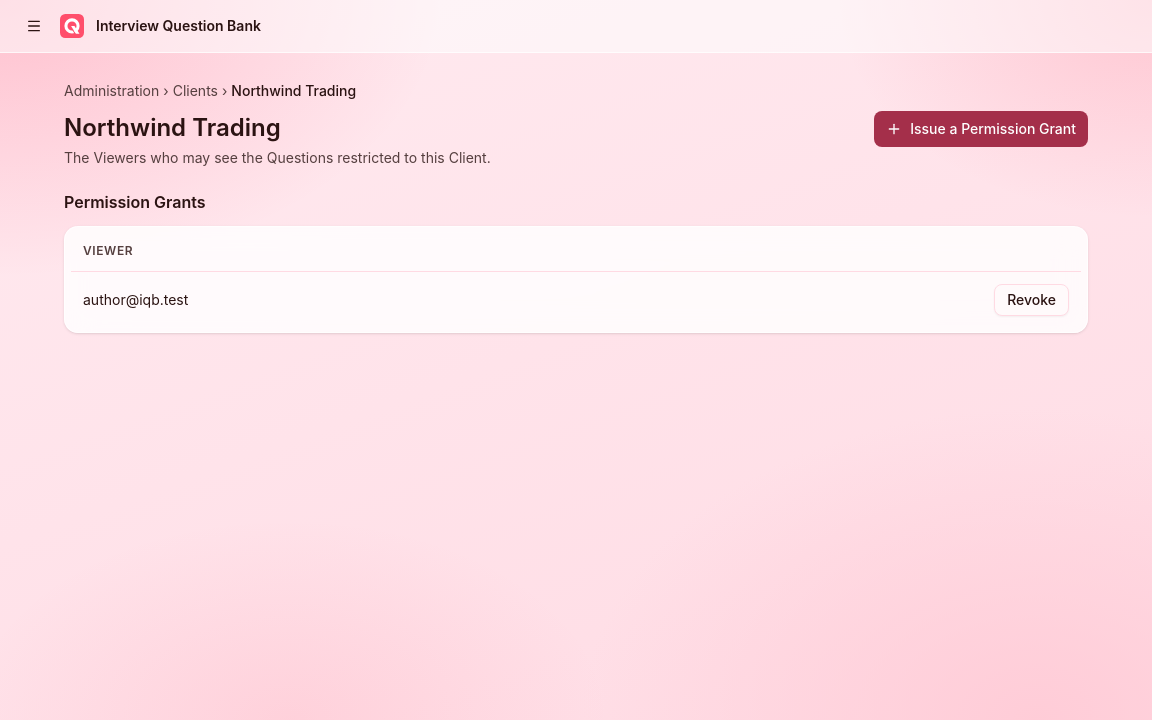
Scenario: the Clients on the administration console › reports the Viewer list failing in the dialog where a Grant would be issued
Check: the text "author@iqb.test" is shown, box [71,272,644,328]
Click the button "Issue a Permission Grant".
click(981, 129)  # box [874,111,1088,147]
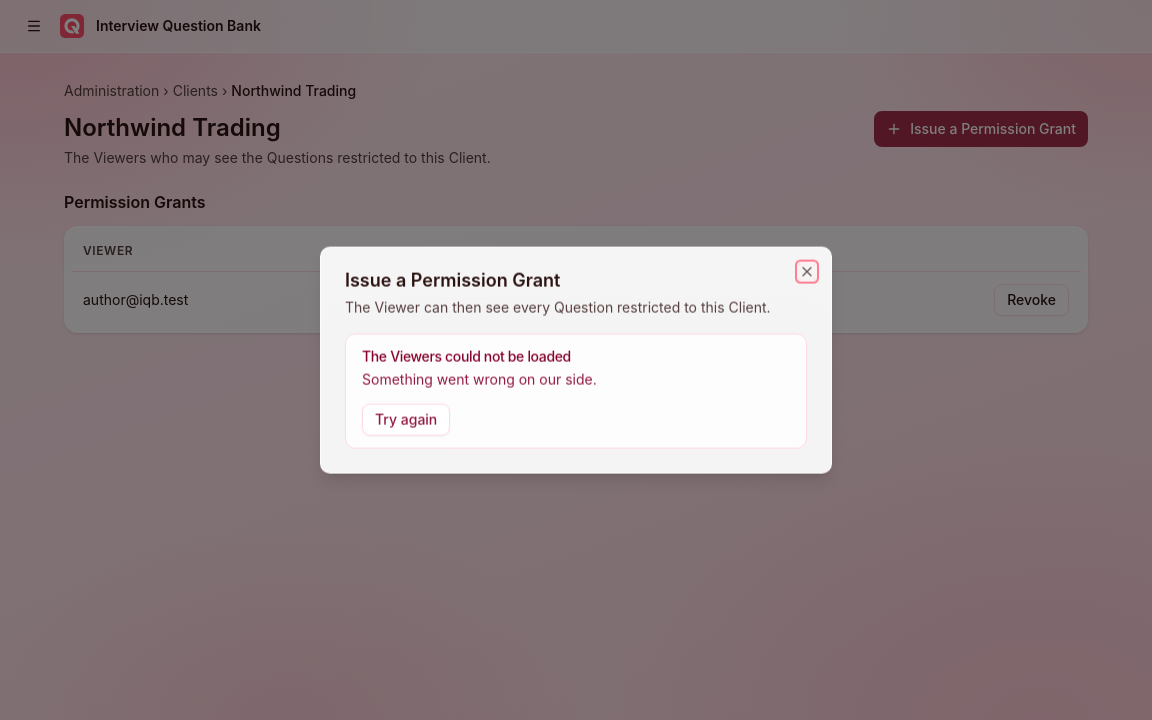
Check: the text "The Viewers could not be loaded" is shown, box [362,348,571,365]
